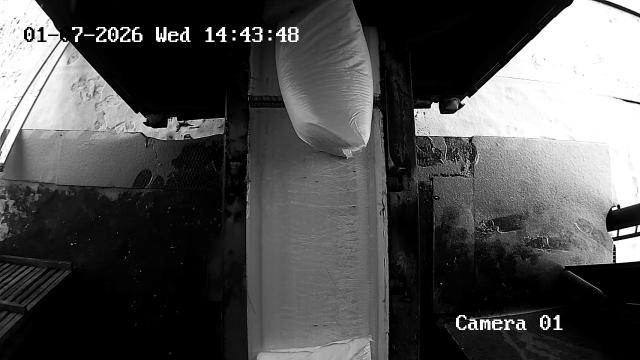bag: (274, 0, 374, 158), (258, 336, 375, 360)
